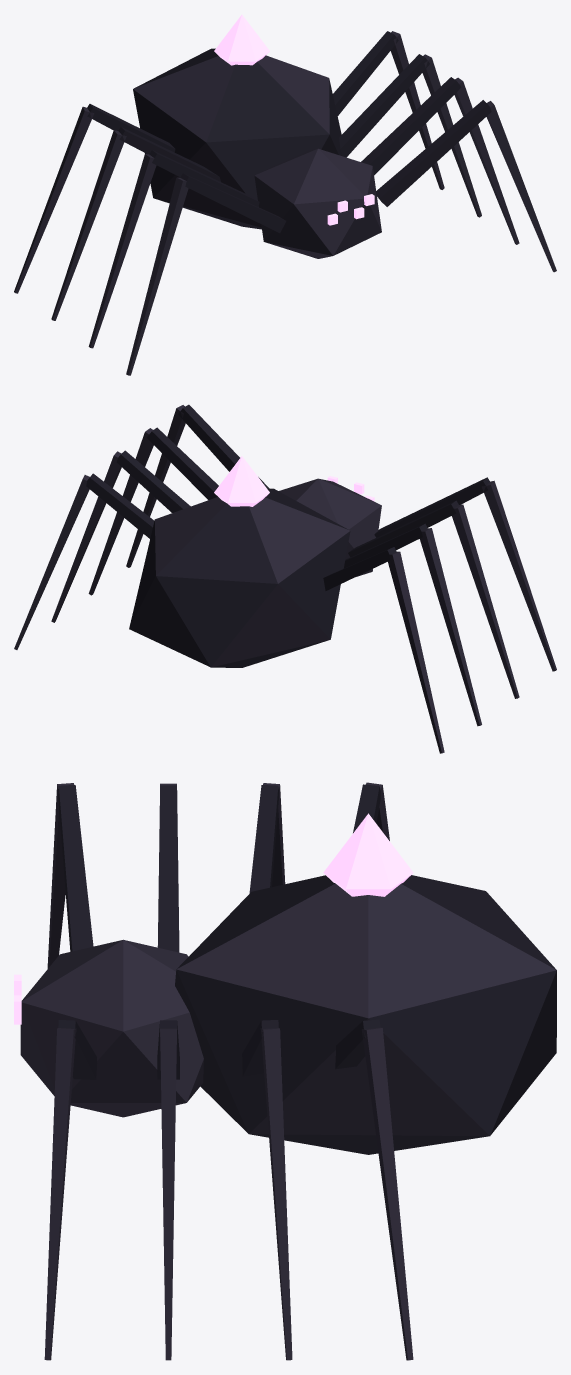
Rendered from AranhaObsidiana.fbx.
3 renders of one model, top to bottom at view 1: azimuth 30°, elevation 25°; view 2: azimuth 150°, elevation 25°; view 3: azimuth 270°, elevation 25°, orthographic. The views are drawn at different scales.
Visible parts, largest first — view 1: Body, Leg0, Leg4, Leg1, Leg2, Leg5, Leg6, Leg7, Leg3; view 2: Body, Leg5, Leg4, Leg7, Leg6, Leg3, Leg1, Leg2, Leg0; view 3: Body, Leg3, Leg0, Leg2, Leg4, Leg1, Leg5, Leg6, Leg7.
Boxes of the visible parts, box(x1,y1,x2,y2) form: Body: box(133, 14, 381, 258); Leg0: box(376, 100, 556, 272); Leg4: box(126, 173, 286, 375); Leg1: box(361, 77, 519, 244); Leg2: box(339, 54, 481, 217); Leg5: box(88, 150, 259, 348); Leg6: box(51, 127, 220, 320); Leg7: box(14, 104, 175, 293); Leg3: box(333, 31, 444, 189); Body: box(129, 456, 381, 667); Leg5: box(348, 500, 519, 698); Leg4: box(374, 477, 556, 671); Leg7: box(323, 547, 444, 753); Leg6: box(343, 523, 481, 726); Leg3: box(14, 473, 154, 649); Leg1: box(88, 427, 218, 595); Leg2: box(51, 450, 190, 622); Leg0: box(126, 404, 269, 567); Body: box(14, 813, 556, 1154); Leg3: box(335, 1019, 413, 1360); Leg0: box(44, 1020, 97, 1360); Leg2: box(242, 1020, 292, 1360); Leg4: box(47, 783, 93, 968); Leg1: box(157, 1020, 179, 1360); Leg5: box(157, 783, 179, 952); Leg6: box(249, 783, 285, 893); Leg7: box(353, 782, 389, 840).
Size of the model in its own units: 2.12 by 1.11 by 1.44.
